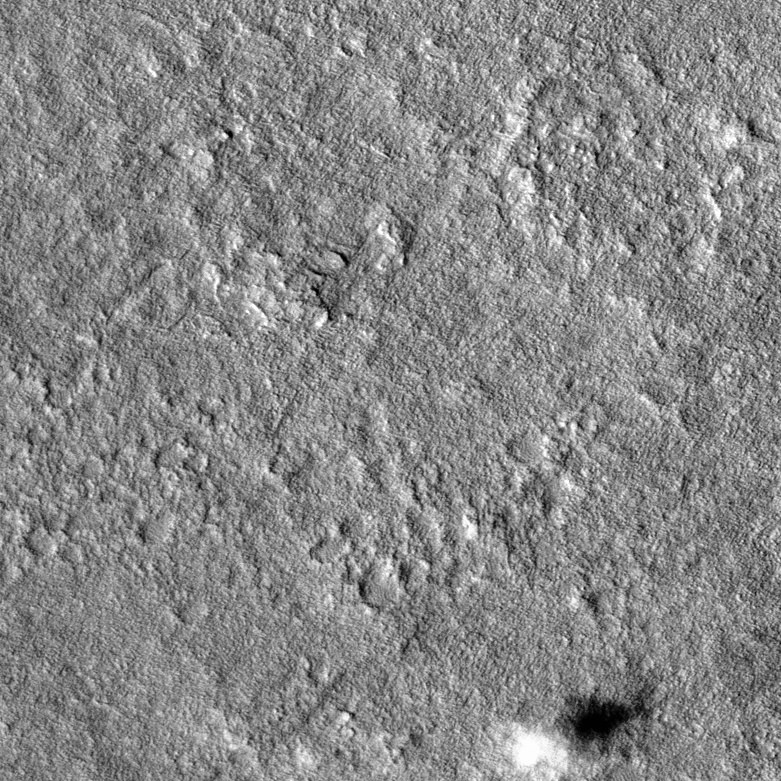dust_devil: (508, 690, 648, 774)
